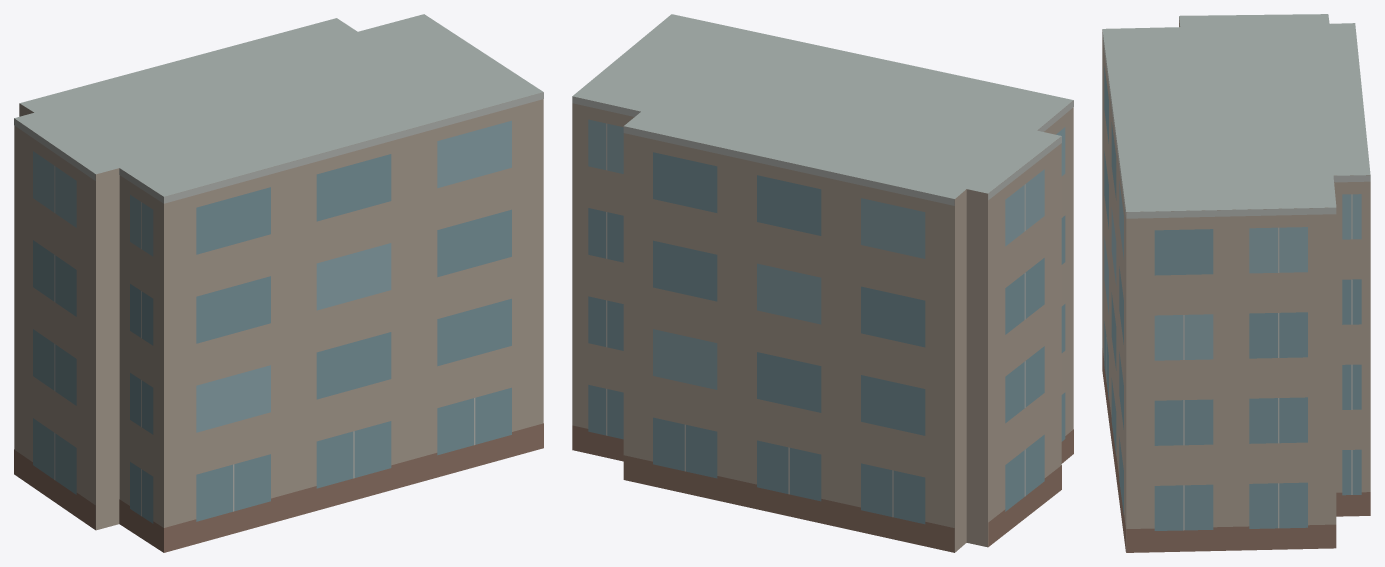
File: survey-upis-32618395.glb
3 views of the same model, side by side, from view 1: azimuth 30°, elevation 25°; view 2: azimuth 150°, elevation 25°; view 3: azimuth 270°, elevation 25° (orthographic). The views are drawn at different scales.
Visible parts, largest first — view 1: survey-upis-32618395.tmp; view 2: survey-upis-32618395.tmp; view 3: survey-upis-32618395.tmp.
Part boxes in pixels (x1,y1,x2,y2): survey-upis-32618395.tmp: [14, 14, 543, 552]; survey-upis-32618395.tmp: [572, 14, 1073, 552]; survey-upis-32618395.tmp: [1102, 14, 1370, 552].
Size of the model in its own units: 15.59 by 12.5 by 8.93.
